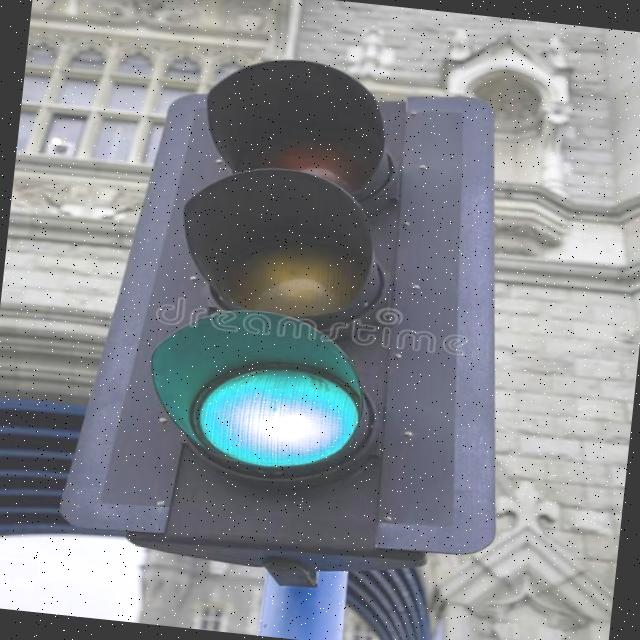Zielone swiatlo: (129, 40, 473, 533)
